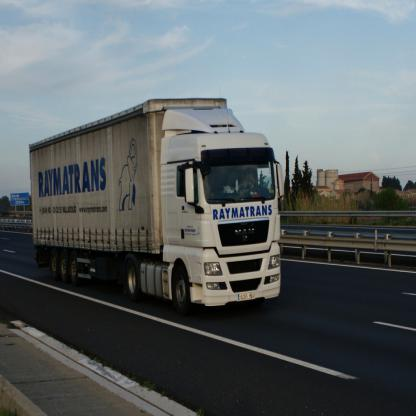Truck: (19, 92, 292, 316)
